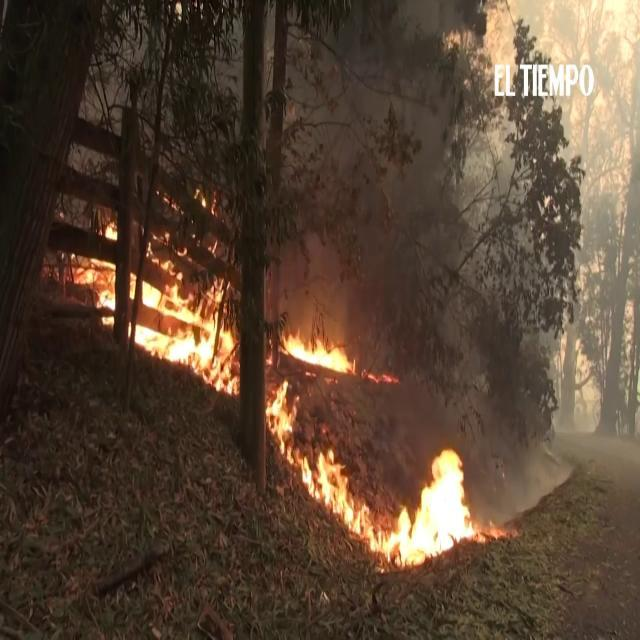Fire: (267, 381, 512, 558), (136, 225, 240, 394), (76, 215, 120, 332), (284, 334, 355, 372), (362, 369, 401, 384)
